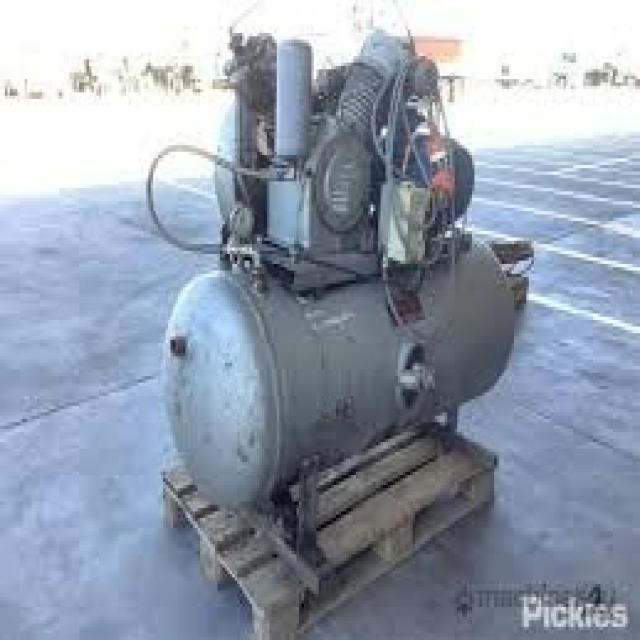compressor: (143, 0, 534, 637)
